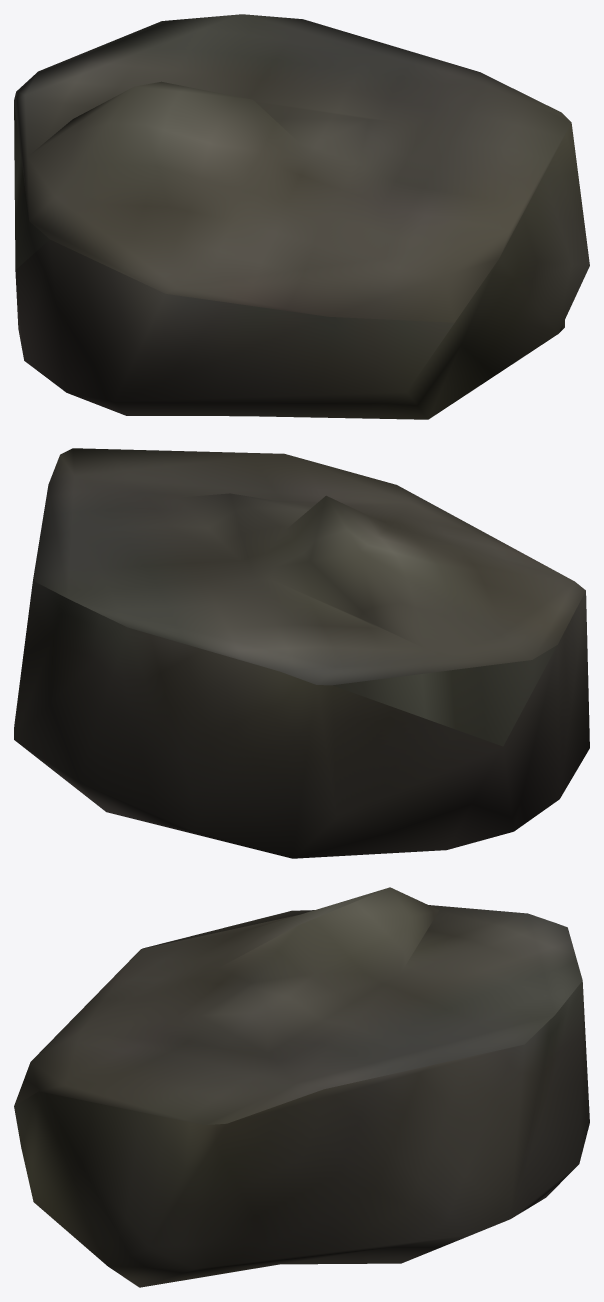
3 renders of one model, top to bottom at view 1: azimuth 30°, elevation 25°; view 2: azimuth 150°, elevation 25°; view 3: azimuth 270°, elevation 25°, orthographic. The views are drawn at different scales.
Visible parts, largest first — view 1: smallrock5_1; view 2: smallrock5_1; view 3: smallrock5_1.
Boxes of the visible parts, left/top/right/bottom form: smallrock5_1: left=14, top=14, right=589, bottom=419; smallrock5_1: left=14, top=448, right=589, bottom=858; smallrock5_1: left=14, top=887, right=589, bottom=1287.
Bounding box in the file's own units: 4.07 × 1.94 × 4.02.
1 material, 1 textured.
